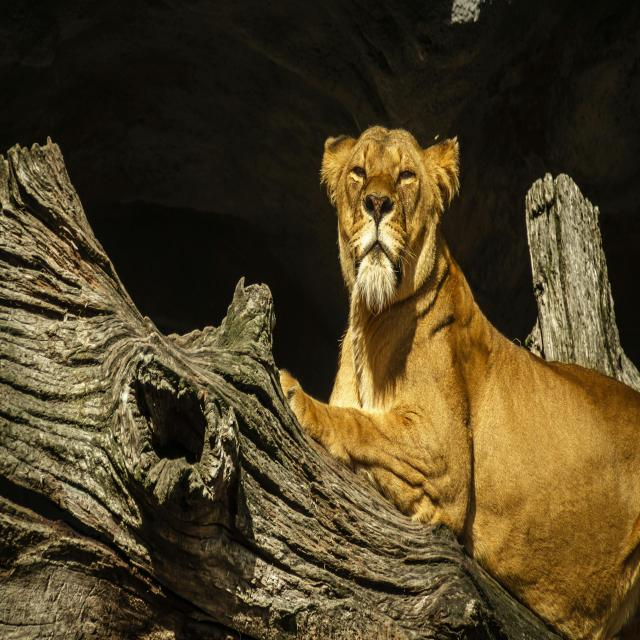Lion: (279, 124, 640, 640)
